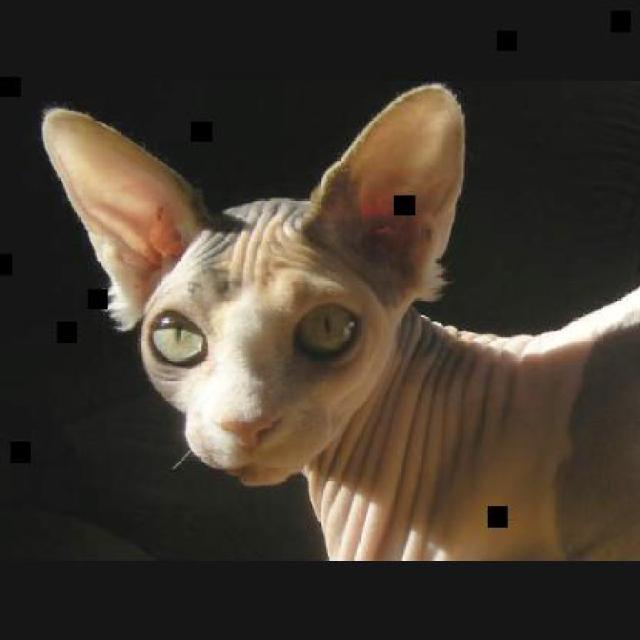unauthorized: (39, 80, 638, 560)
